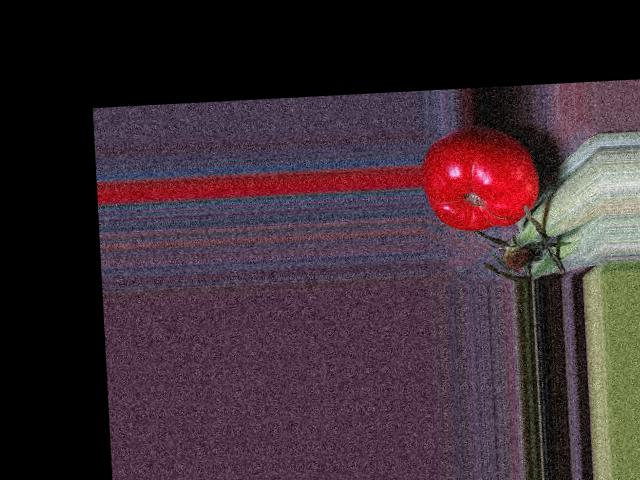tomato: (420, 122, 541, 233)
